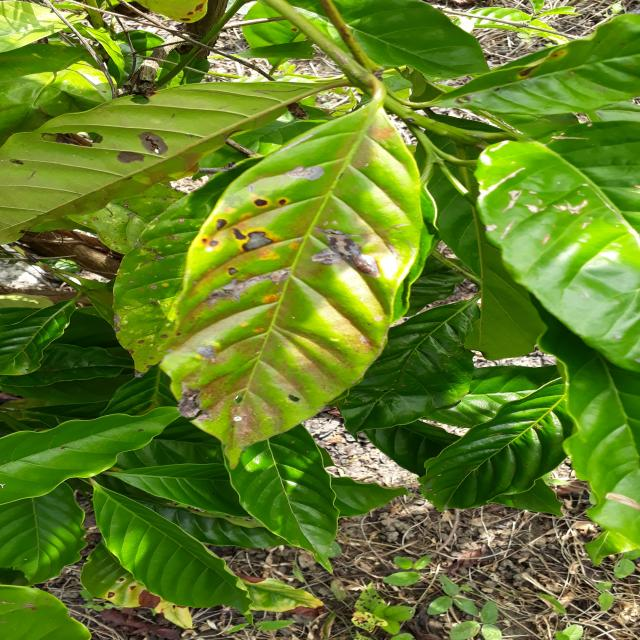Plaga-AranaRoja: (161, 91, 432, 463)
